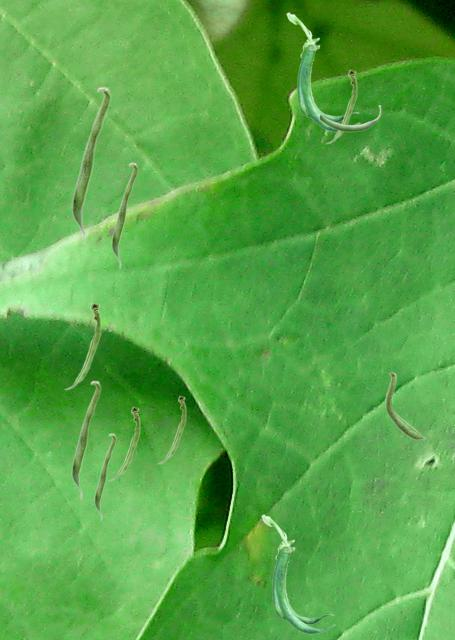french_bean: (286, 12, 359, 131), (261, 514, 334, 633), (71, 86, 110, 244), (71, 380, 100, 499), (64, 302, 100, 389), (111, 162, 137, 268), (385, 371, 424, 439), (325, 69, 356, 143), (108, 406, 139, 480), (157, 395, 185, 463), (94, 433, 115, 520), (319, 105, 380, 131)
